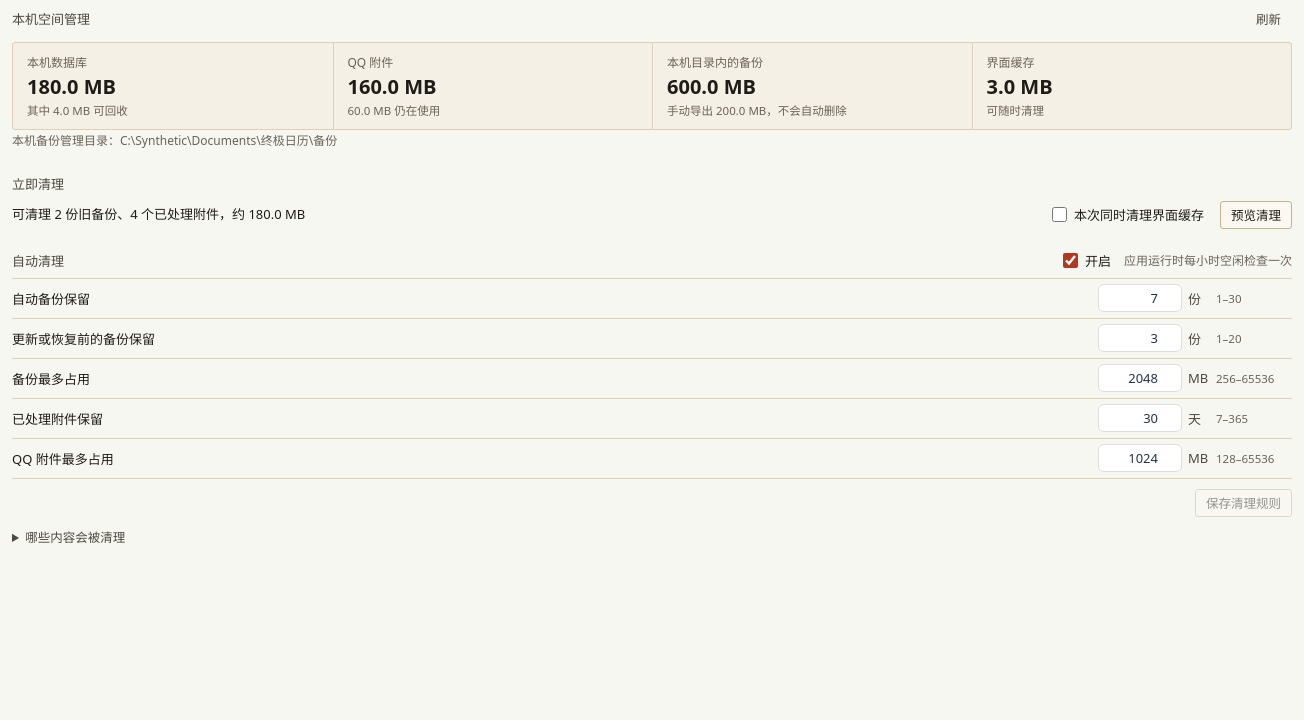
Test case: space management › rejects invalid retention values before saving
The width and height of the screenshot is (1304, 720).
Expected: the text "180.0 MB" is shown, x1=27 y1=73 x2=116 y2=100
Replace the text in the number field named "自动备份保留" with "0" at (1140, 298), box x1=1098 y1=284 x2=1182 y2=312
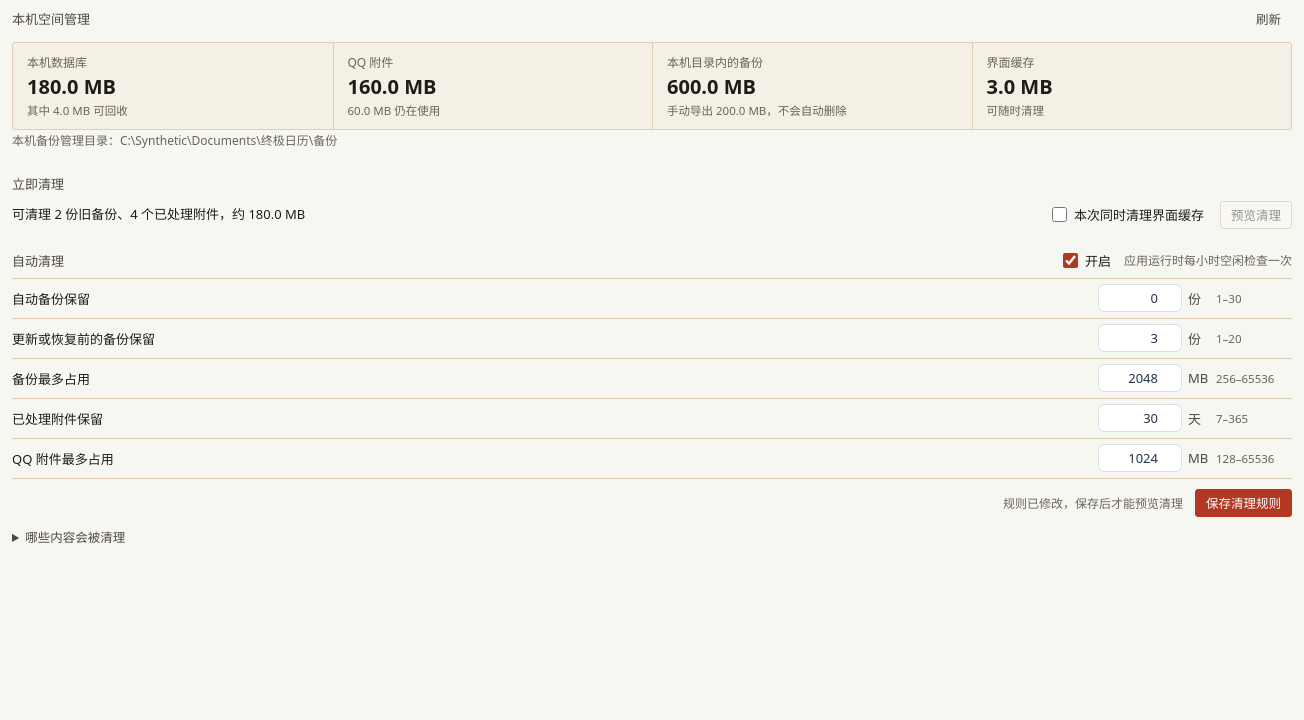
Click the button "保存清理规则".
click(1244, 503)  # box x1=1195 y1=489 x2=1292 y2=517
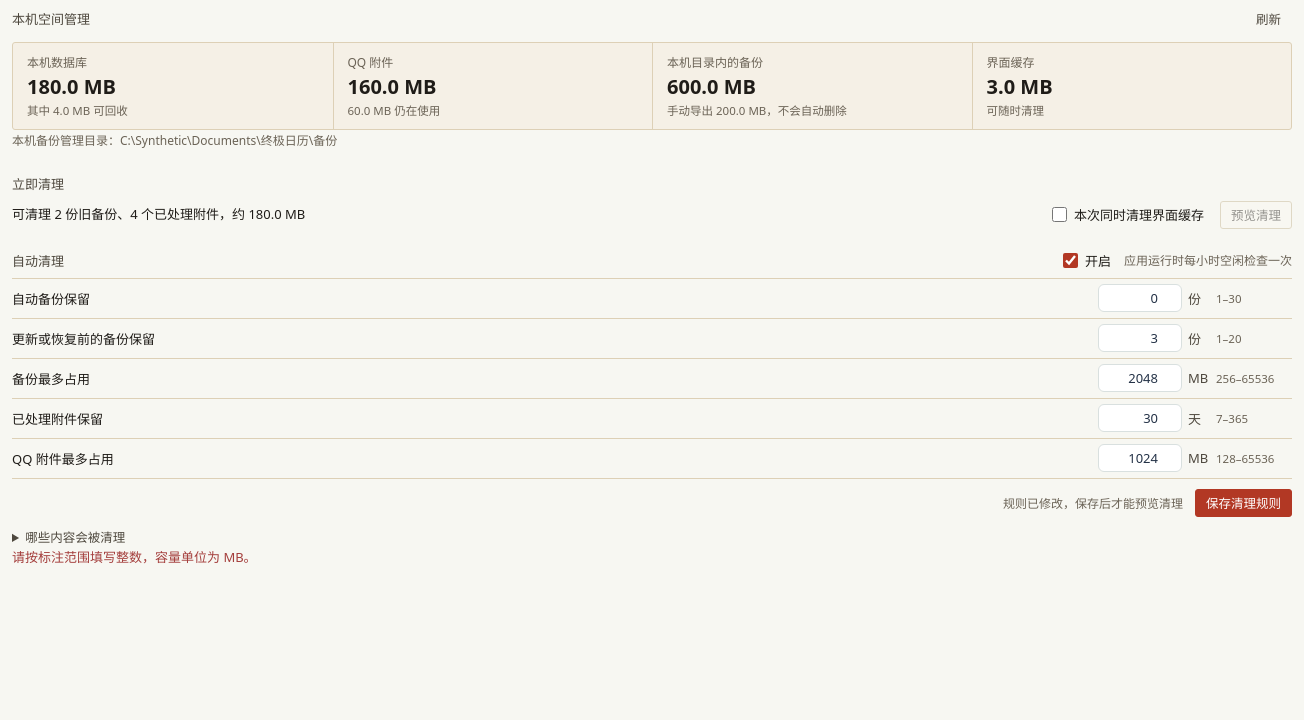
Now the message shows "标注范围", box x1=12 y1=548 x2=257 y2=566
